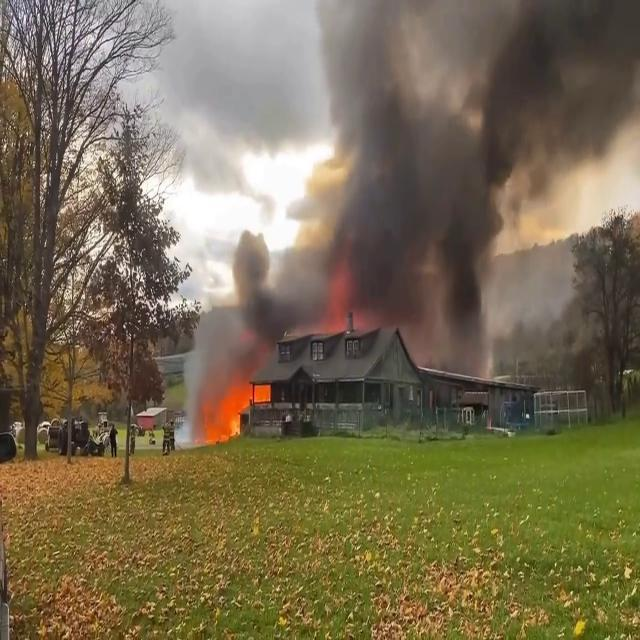Fire: (192, 366, 274, 449)
Smoke: (203, 2, 634, 330)
